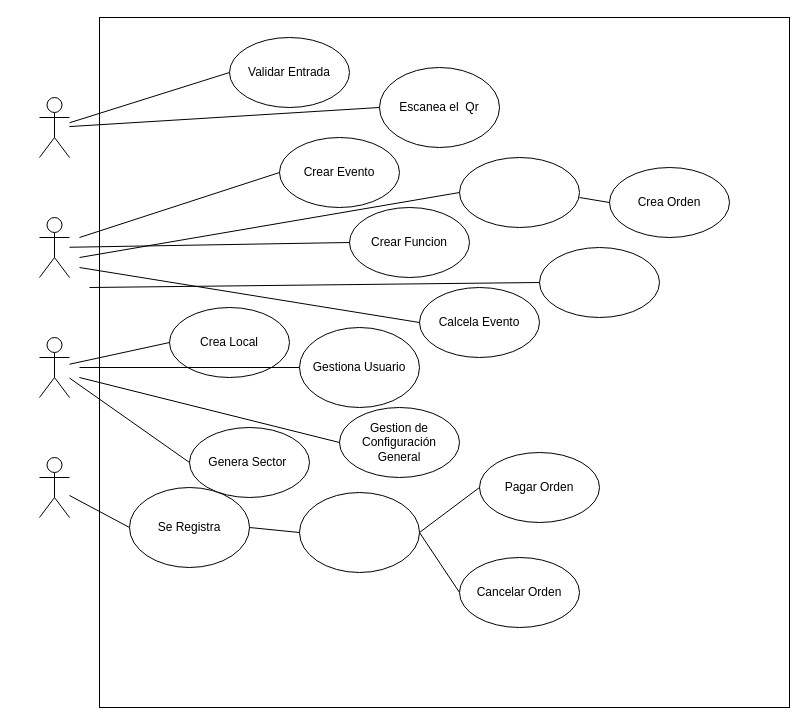
Image size: 807x725. Some labels were removed from this diagram. Each missing label, with the box of its shape:
Administrador: (38, 336, 70, 398)
Anular Entrada: (538, 246, 660, 318)
Crea Tarifa: (458, 156, 580, 228)
Inicia seción: (298, 492, 420, 572)
Molinete: (38, 96, 70, 158)
Organizador: (38, 216, 70, 278)
Usuario: (38, 456, 70, 518)
